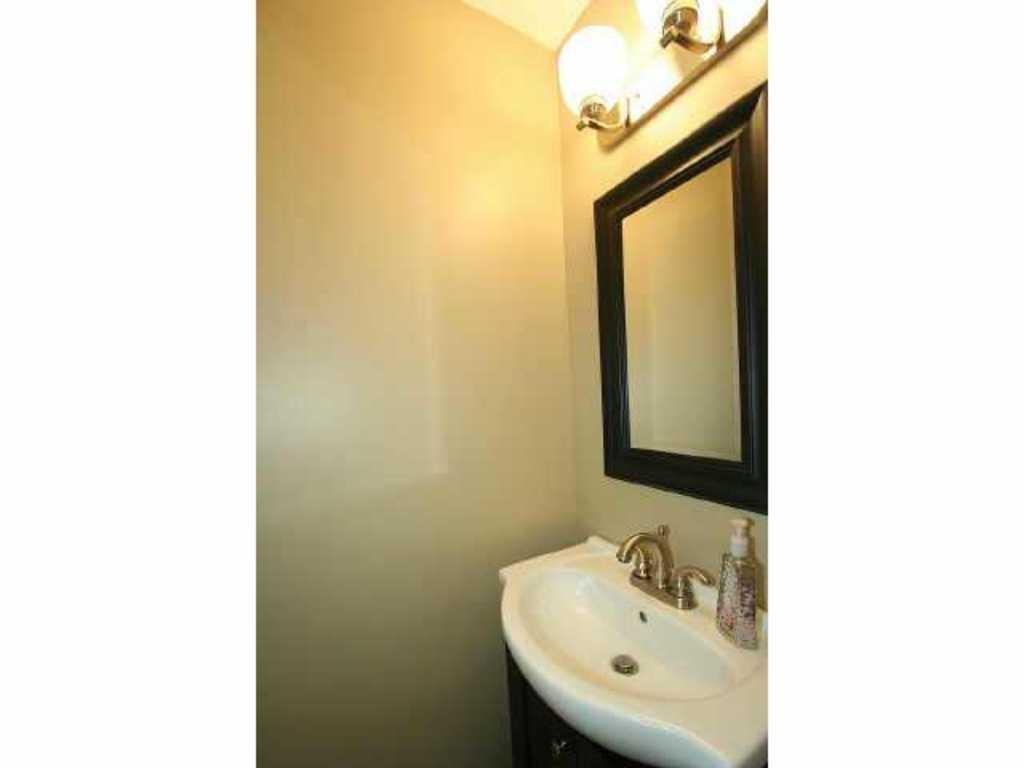handle: (543, 735, 571, 762)
